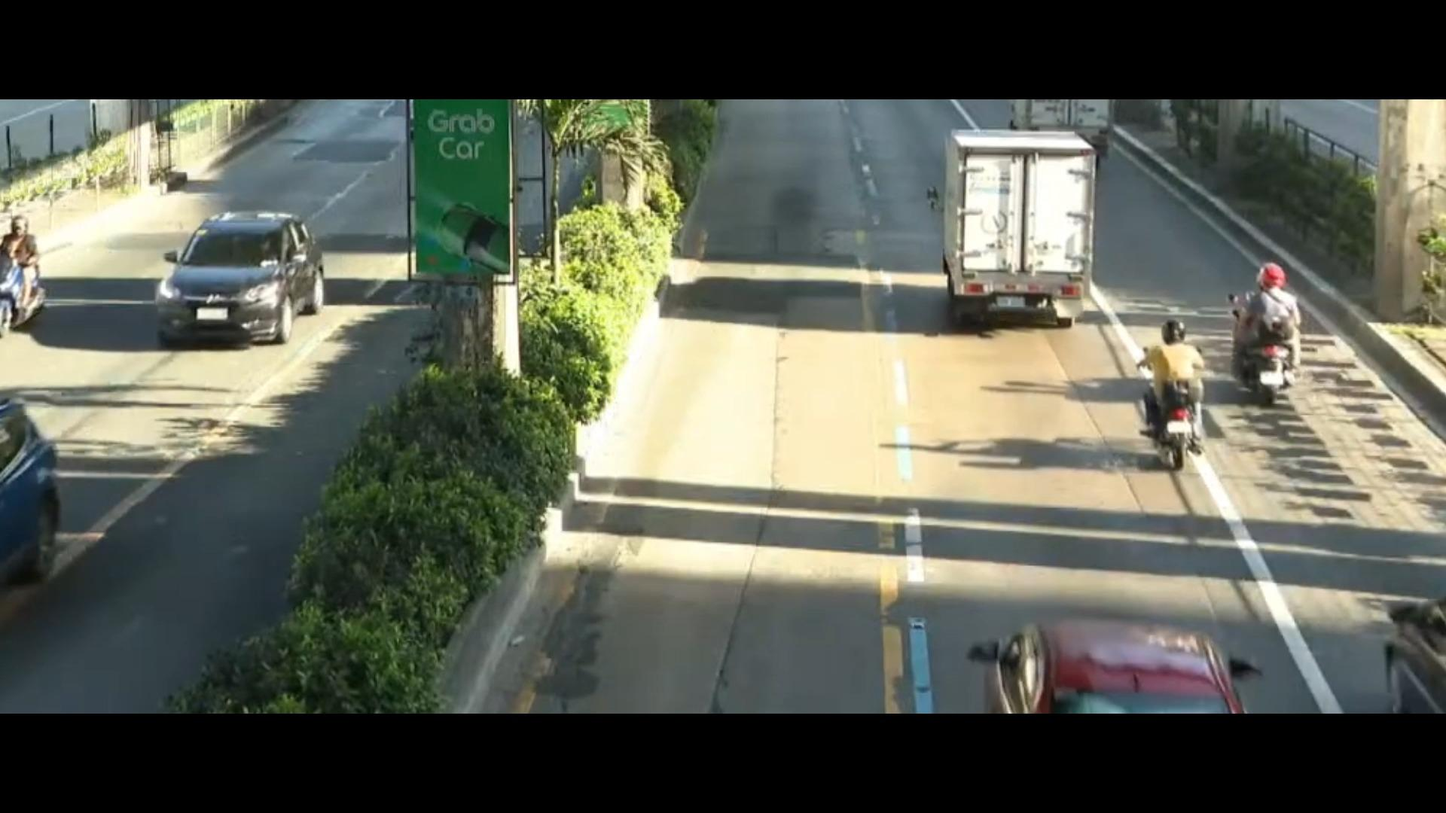Motorcycle: (1108, 307, 1241, 515), (1225, 239, 1324, 432), (0, 202, 87, 346)
SUV: (135, 196, 339, 355)
Sedan: (940, 589, 1263, 709)
Truck: (917, 123, 1090, 333), (986, 94, 1134, 152)
